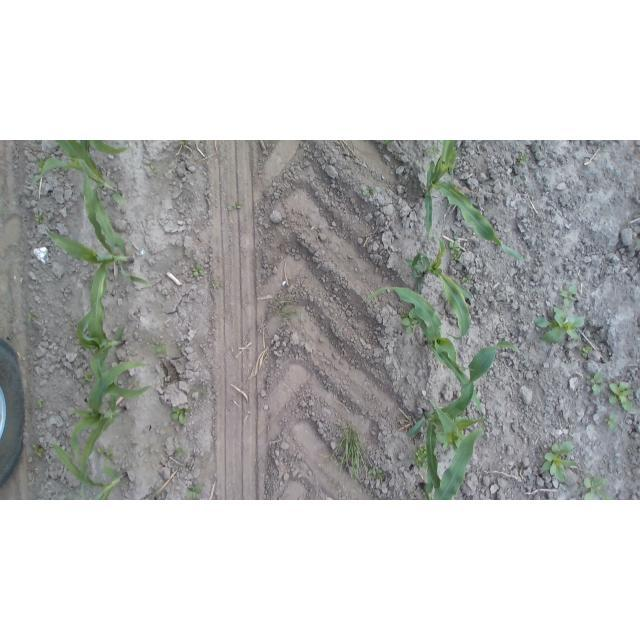Maize: (406, 339, 521, 494), (359, 287, 485, 417), (46, 160, 152, 288), (420, 140, 524, 262), (67, 358, 149, 495), (74, 260, 155, 398), (404, 237, 475, 340), (32, 141, 131, 208), (51, 441, 130, 500), (422, 428, 483, 500), (384, 140, 395, 146)
Weeds: (324, 419, 372, 485), (534, 306, 585, 347), (539, 440, 577, 485), (270, 296, 300, 325), (609, 380, 634, 412), (582, 473, 610, 500), (558, 280, 581, 309), (399, 307, 417, 337), (170, 406, 192, 427), (586, 372, 604, 397), (412, 444, 429, 468), (448, 236, 462, 260), (185, 483, 203, 500), (96, 446, 115, 462), (605, 411, 620, 431), (368, 466, 385, 480), (152, 341, 166, 358), (226, 201, 244, 212), (580, 343, 593, 358), (32, 442, 44, 458), (80, 369, 93, 383), (427, 145, 441, 158), (361, 187, 377, 198), (35, 213, 46, 227), (175, 443, 186, 457), (193, 263, 204, 277), (519, 152, 530, 165), (34, 398, 45, 409), (151, 163, 161, 175), (210, 279, 219, 291), (37, 157, 44, 172), (27, 311, 35, 324), (461, 275, 472, 284), (179, 140, 188, 146), (409, 493, 416, 500)
